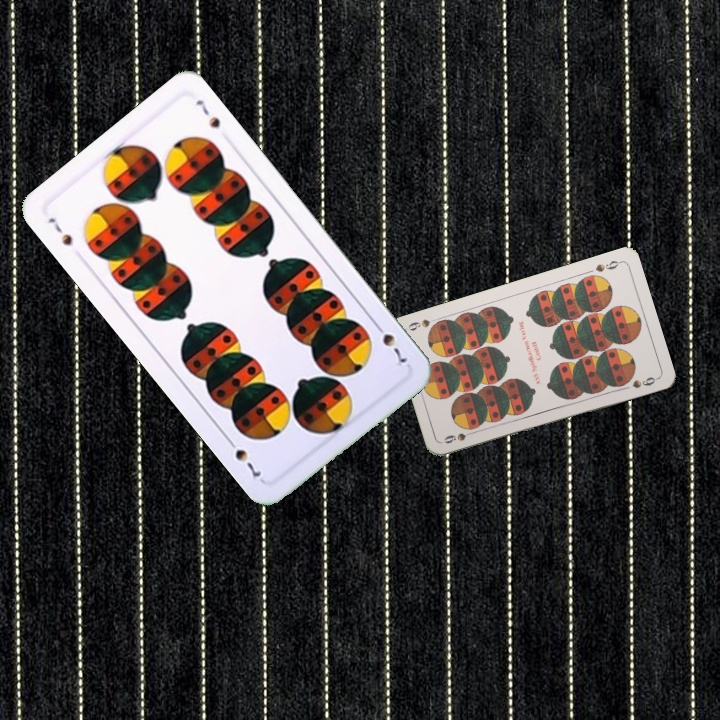S7: (370, 318, 409, 366), (43, 213, 75, 249)
S9: (439, 427, 479, 446), (592, 256, 624, 275)
